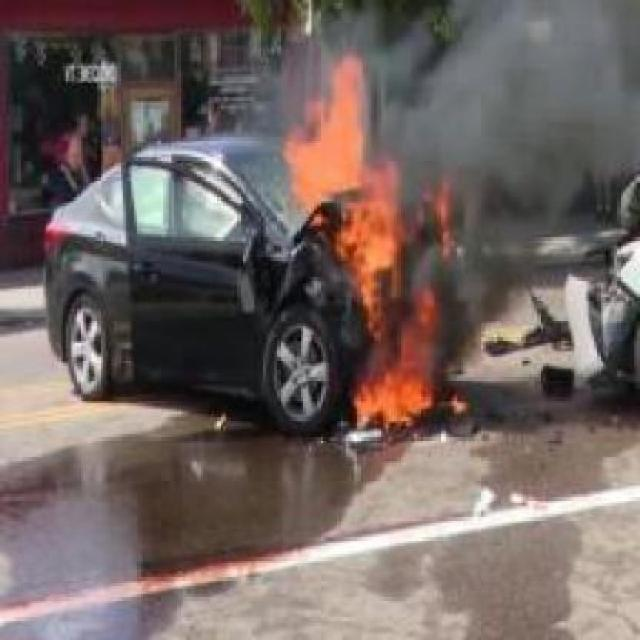Fire: (350, 279, 439, 433), (282, 52, 370, 205), (330, 167, 402, 278)
Smoke: (398, 0, 638, 245)
